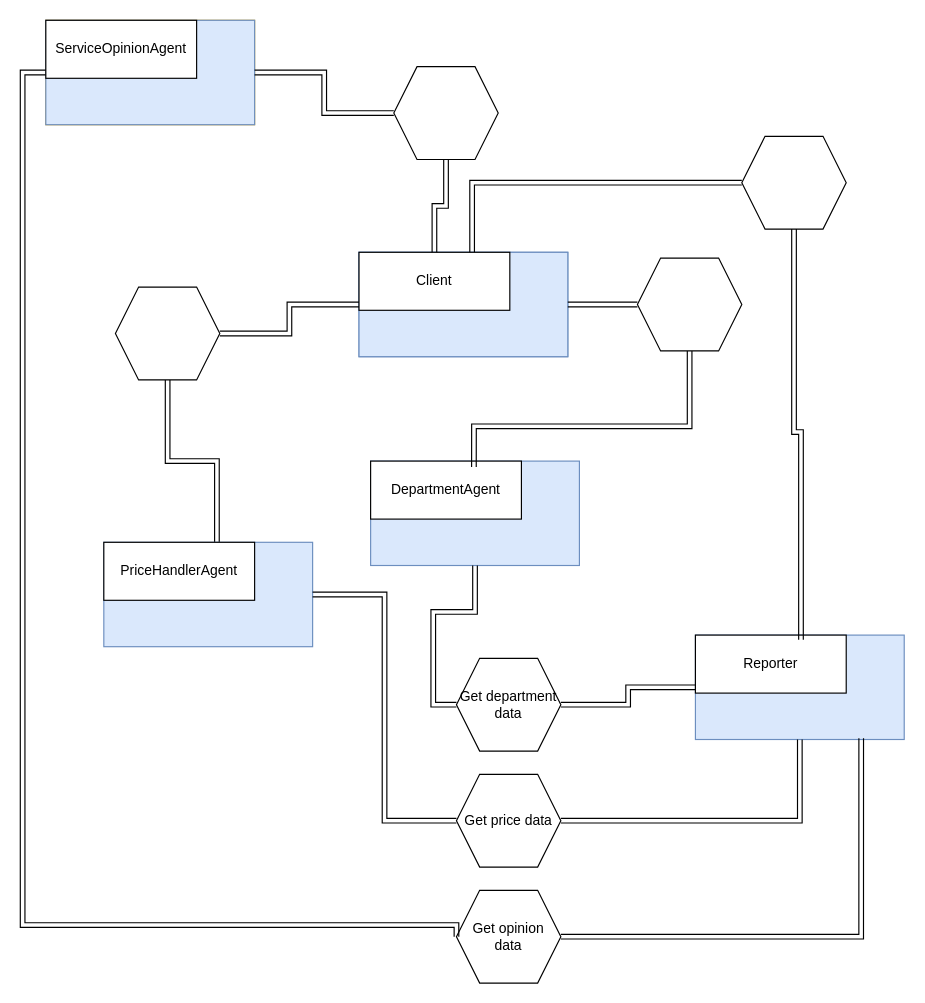
Some shapes in this 925 by 1003 pixel diagram are drawn without their labels. The centre of each missing label's shape, as x and y in pixels:
Create final report: the point at 793,182
Get departments: the point at 689,304
Get opinions: the point at 445,113
Get prices: the point at 167,333
